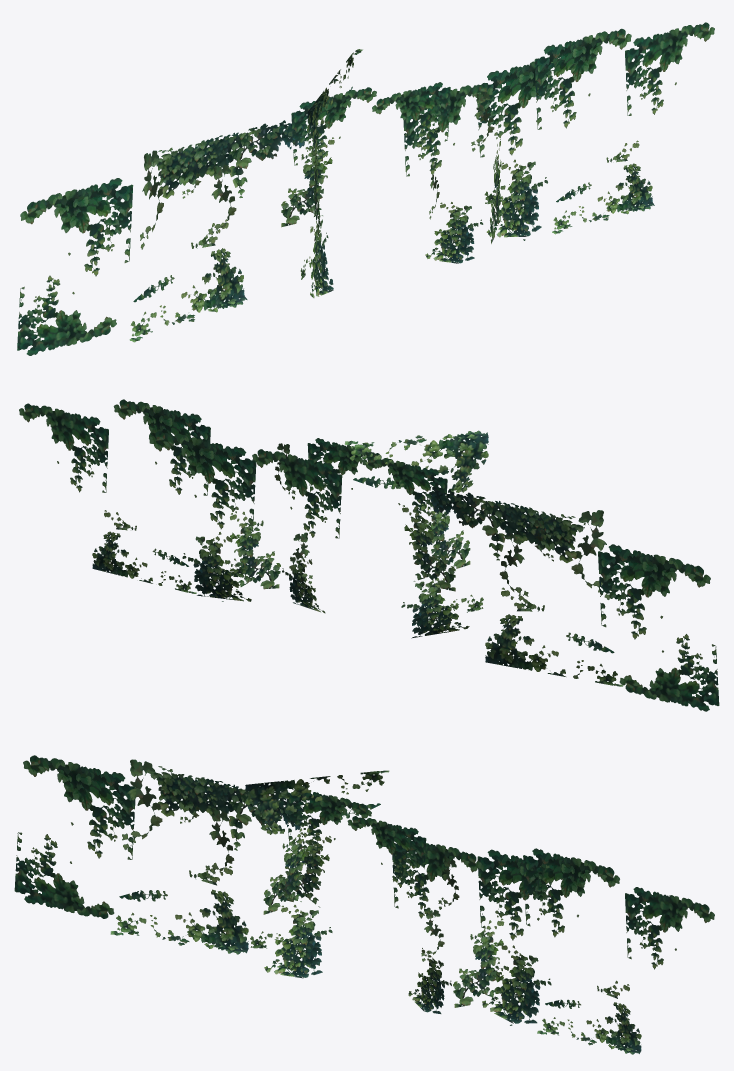
File: zhiwu_01.FBX
The picture shows the model from 3 angles, top to bottom: view 1: azimuth 30°, elevation 25°; view 2: azimuth 150°, elevation 25°; view 3: azimuth 330°, elevation 25°; orthographic projection. The views are drawn at different scales.
Visible parts, largest first — view 1: zhiwu_01; view 2: zhiwu_01; view 3: zhiwu_01.
Boxes of the visible parts, x1,y1,x2,y2 form: zhiwu_01: (17,22,714,355); zhiwu_01: (19,399,719,711); zhiwu_01: (14,755,714,1054).
Size of the model in its own units: 2262 by 644 by 297.
